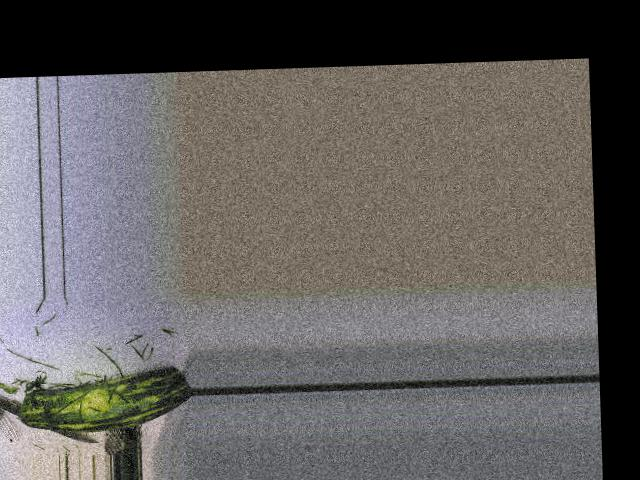cucumber: (18, 365, 191, 433)
